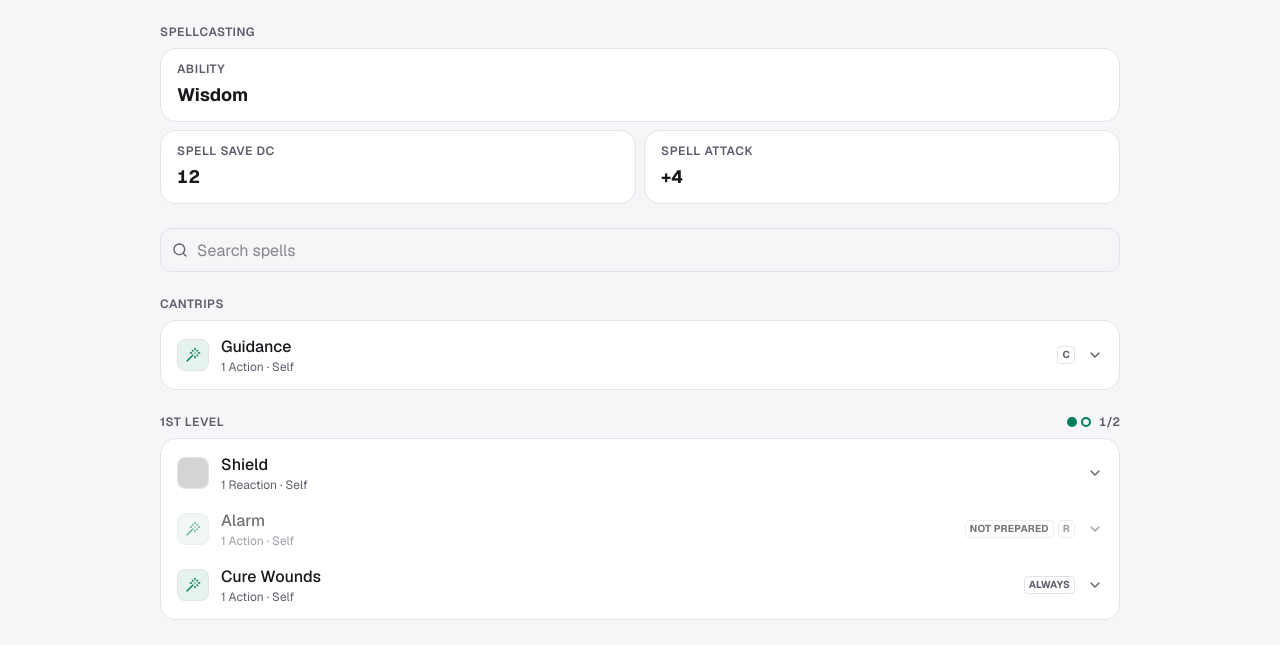
Scenario: components/character-sheet/spells-tab › opens a spell to how it is cast, and its description
This screenshot has width=1280, height=645.
Click the text "Shield": (245, 465) top-left (221, 453), bottom-right (268, 477)
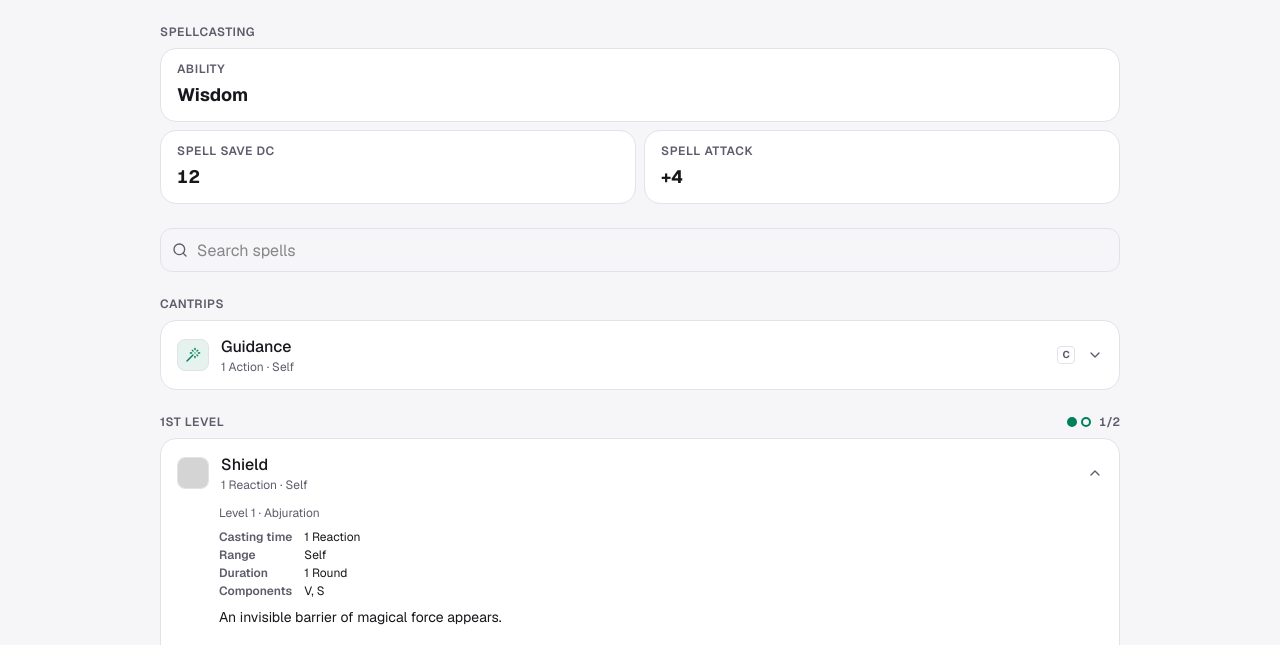
Check: the text "Level 1 · Abjuration" is shown, box top-left (219, 505), bottom-right (320, 521)
Check: the text "An invisible barrier of magical force appears." is shown, box top-left (219, 608), bottom-right (502, 626)
